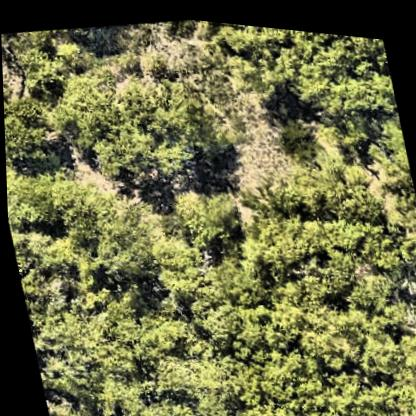tree-top: (51, 147, 156, 294), (24, 297, 146, 416), (94, 72, 207, 198), (269, 22, 389, 121), (1, 20, 99, 98), (159, 169, 245, 254), (43, 69, 131, 149), (294, 350, 397, 416), (246, 331, 333, 406), (5, 155, 69, 241), (3, 86, 65, 172), (268, 155, 340, 221), (129, 297, 201, 362), (207, 238, 271, 311), (350, 316, 408, 378), (327, 173, 387, 227), (147, 346, 202, 404), (207, 17, 280, 60), (352, 215, 405, 273), (274, 104, 324, 161), (312, 239, 362, 296), (31, 231, 78, 277), (409, 334, 416, 414)
